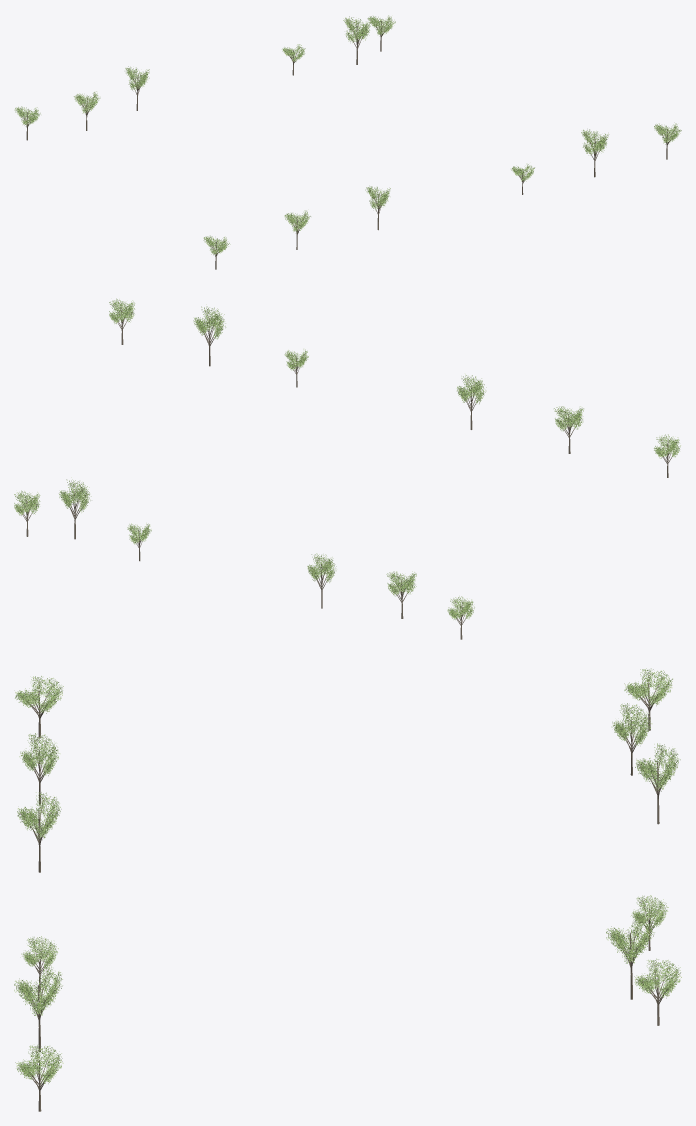
File: 20261103-public-planting-0.glb
3 renders of one model, top to bottom at view 1: azimuth 30°, elevation 25°; view 2: azimuth 150°, elevation 25°; view 3: azimuth 270°, elevation 25°, orthographic. The views are drawn at different scales.
Size of the model in its own units: 107 by 9.95 by 75.6.
